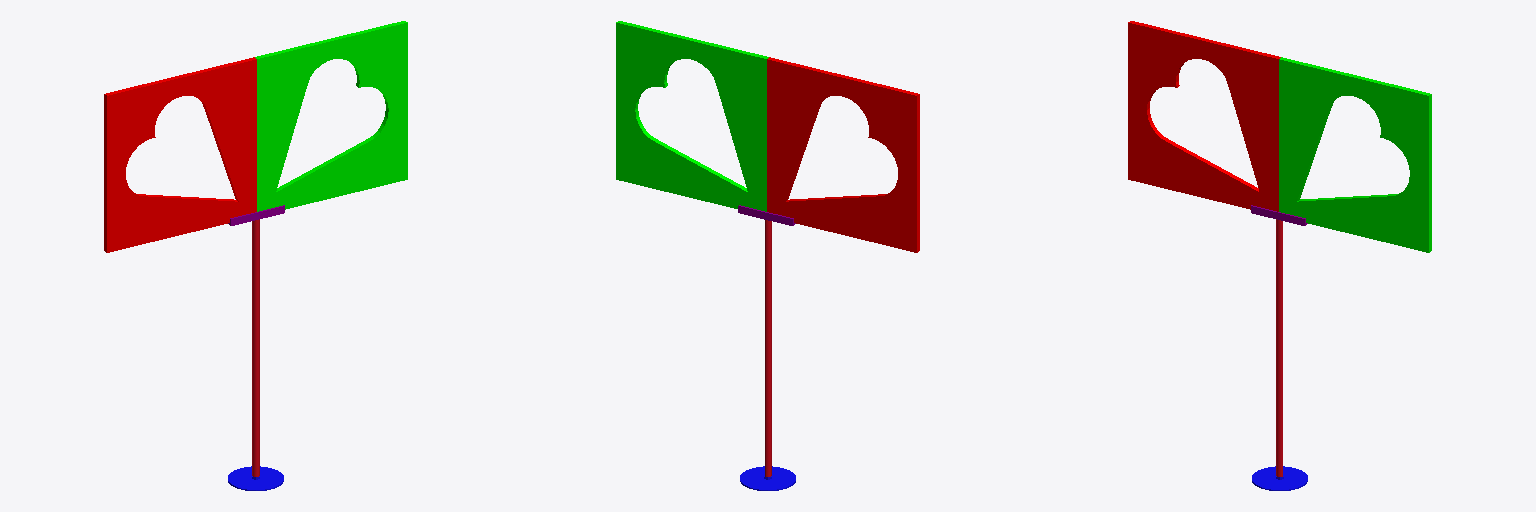
The robot description file, URDF, robot "torpedo_target":
<robot name="torpedo_target">
  <link name="torpedo_target">
    <inertial>
      <origin rpy="0 0 0" xyz="0 0 0"/>
      <mass value="10"/>
      <inertia ixx="0" ixy="0" ixz="0" iyy="0" iyz="0" izz="0"/>
    </inertial>
    <visual>
      <origin rpy="0 0 0" xyz="0 0 0"/>
      <geometry>
        <mesh filename="package://varun_gazebo/models/torpedo_target/meshes/torpedo_target.dae"/>
      </geometry>
    </visual>
    <collision>
      <origin rpy="0 0 0" xyz="0 0 0"/>
      <geometry>
        <mesh filename="package://varun_gazebo/models/torpedo_target/meshes/torpedo_target.dae"/>
      </geometry>
    </collision>
  </link>
</robot>

--- Facts derived from the render (not from the file) ---
Views: 3 orthographic renders of the robot side by side, from view 1: azimuth 30°, elevation 25°; view 2: azimuth 150°, elevation 25°; view 3: azimuth 330°, elevation 25°.
Model torpedo_target with 1 links and 0 joints (none), rooted at torpedo_target, posed every joint at zero.
Visible links, largest first — view 1: torpedo_target; view 2: torpedo_target; view 3: torpedo_target.
Boxes of the visible links, bbox=[...] form: torpedo_target: bbox=[104, 21, 407, 490]; torpedo_target: bbox=[616, 21, 919, 490]; torpedo_target: bbox=[1128, 21, 1431, 490].
Size in the robot's own frame: 1.22 by 0.2 by 1.64 metres.
Meshes: 1 distinct files referenced, 1 mesh visuals loaded (1 Collada DAE).
